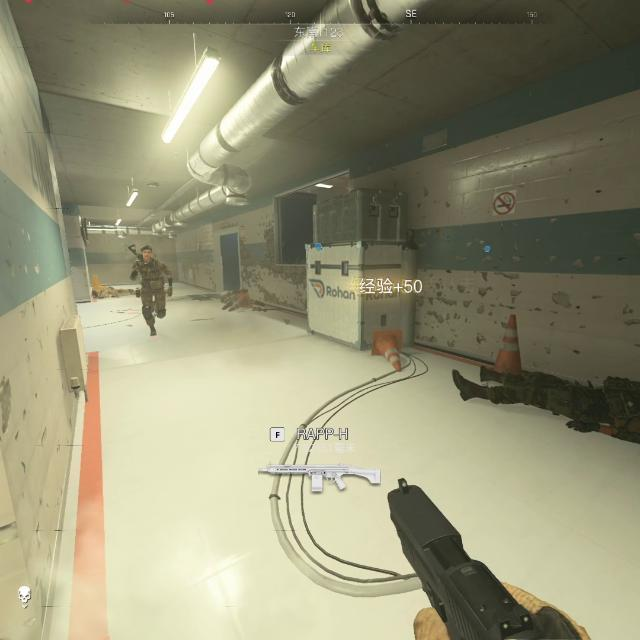MW2_body: (130, 246, 173, 336)
